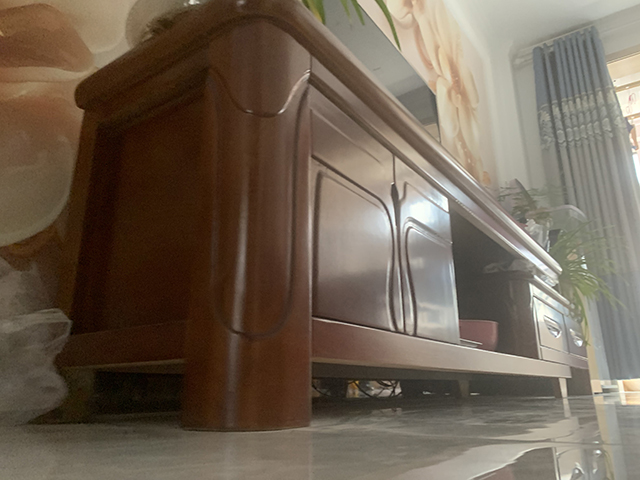cabinet: (37, 1, 593, 434)
curtain: (531, 23, 640, 382)
wire: (312, 375, 403, 402)
